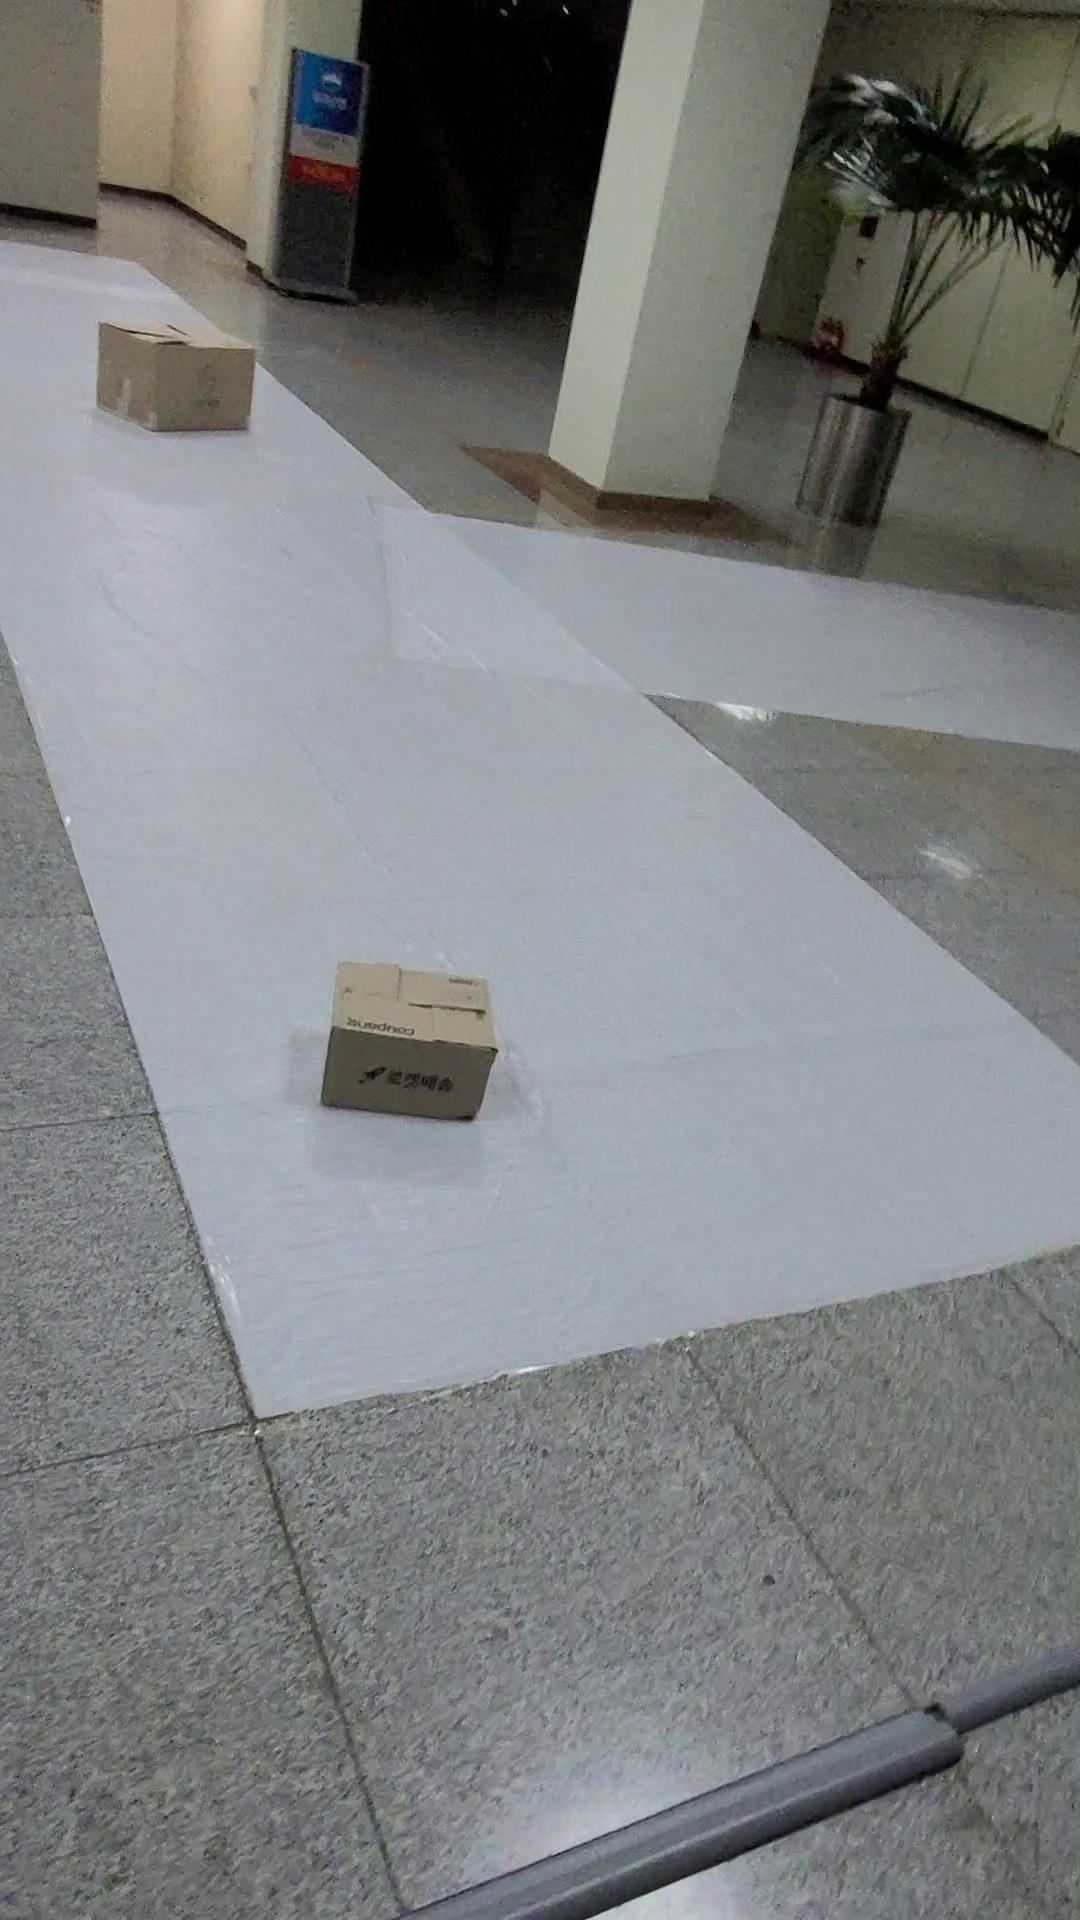Box: (303, 924, 516, 1130), (61, 285, 285, 469)
